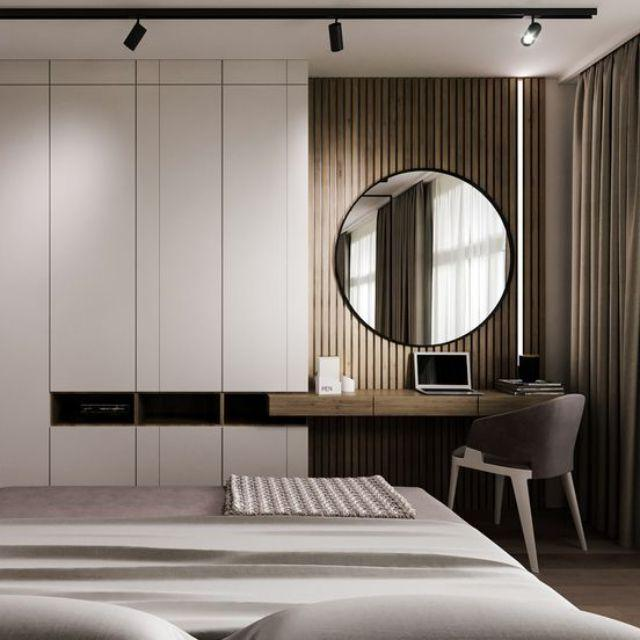bed: (2, 476, 640, 640)
chair: (445, 382, 601, 574)
mirror: (320, 162, 523, 352)
pillow: (246, 590, 640, 640), (0, 600, 190, 640)
